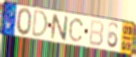6: (106, 22, 120, 51)
B: (88, 19, 105, 48)
C: (68, 17, 85, 43)
D: (31, 9, 49, 39)
N: (50, 12, 69, 43)
O: (16, 7, 33, 37)
